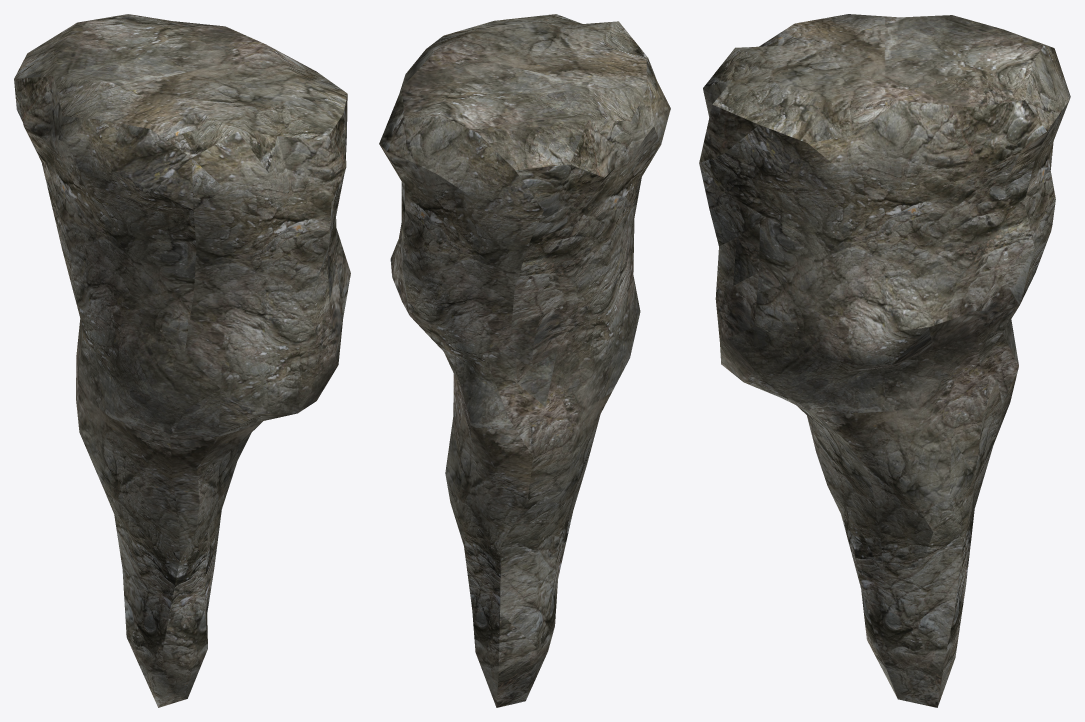
Rendered from Pico01.fbx.
3 renders of one model, left to right at view 1: azimuth 30°, elevation 25°; view 2: azimuth 150°, elevation 25°; view 3: azimuth 270°, elevation 25°, orthographic. The views are drawn at different scales.
Parts seen in each view (by area): view 1: Stalagtite - Short; view 2: Stalagtite - Short; view 3: Stalagtite - Short.
Part boxes in pixels (x1,y1,x2,y2): Stalagtite - Short: (14, 14, 350, 707); Stalagtite - Short: (379, 14, 670, 707); Stalagtite - Short: (699, 14, 1070, 707).
Size of the model in its own units: 301 by 721 by 373.
